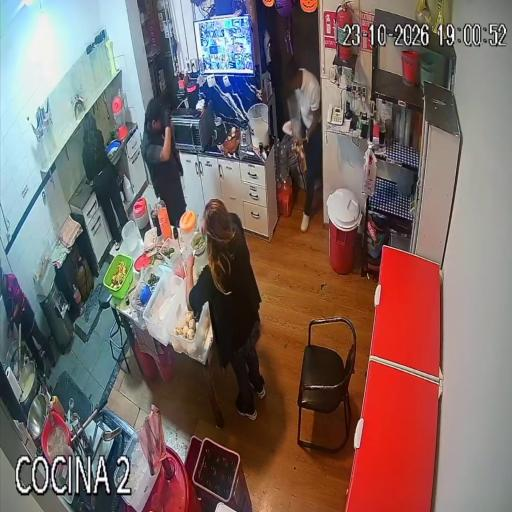Balde: (247, 103, 269, 148)
Envase Llajua: (52, 395, 64, 419)
Jarra1: (133, 197, 150, 238)
Jarra2: (179, 210, 198, 251)
Jarra3: (122, 220, 141, 257)
Microondas: (171, 103, 214, 151)
Persona1: (142, 98, 186, 225)
Persona2: (186, 199, 265, 419)
Persona3: (287, 59, 322, 232)
Persona4: (82, 113, 127, 245)
Persona5: (0, 266, 54, 365)
Taper: (103, 254, 133, 299)
Taper2: (128, 264, 163, 328)
Taper3: (143, 271, 186, 345)
Taper4: (168, 296, 208, 354)
Taper5: (115, 430, 159, 512)
